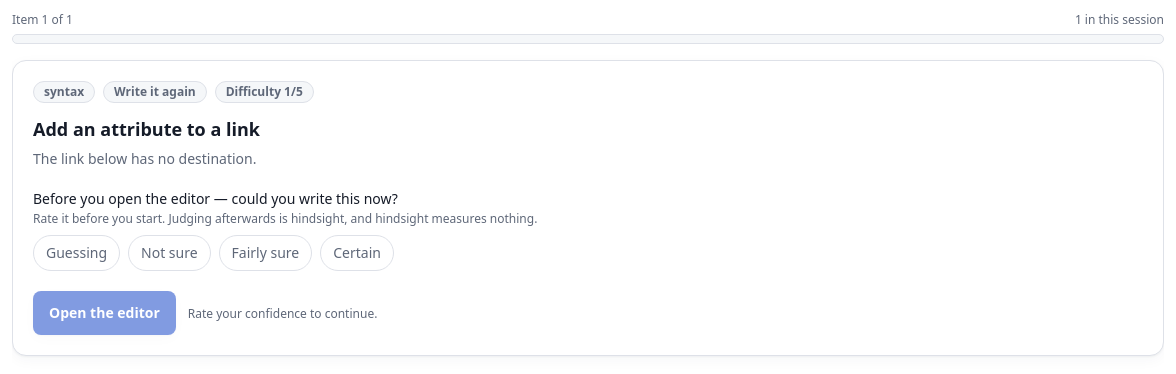
Test: review session › collects confidence on an exercise before the editor opens
Expected: the button "Open the editor" is disabled, x1=33 y1=291 x2=176 y2=335
Click the radio button labelled "Guessing": (76,253) x1=33 y1=235 x2=120 y2=271
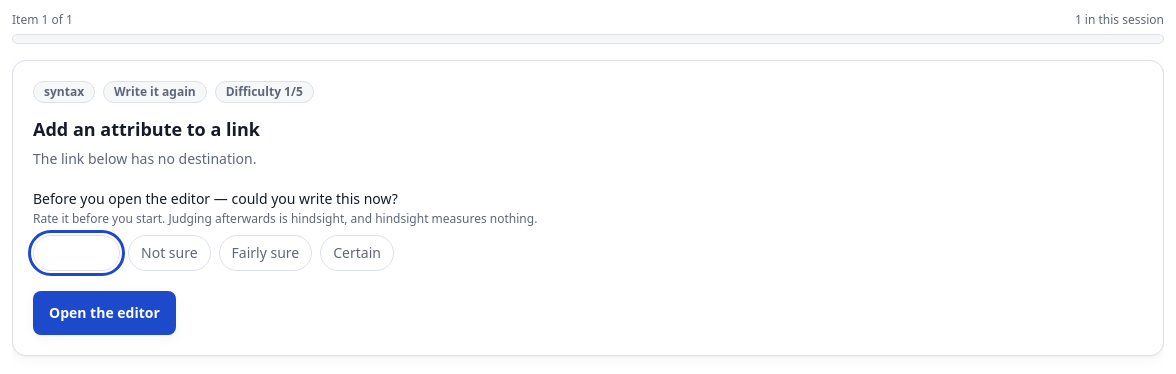
Result: the button "Open the editor" is enabled at x1=33 y1=291 x2=176 y2=335
